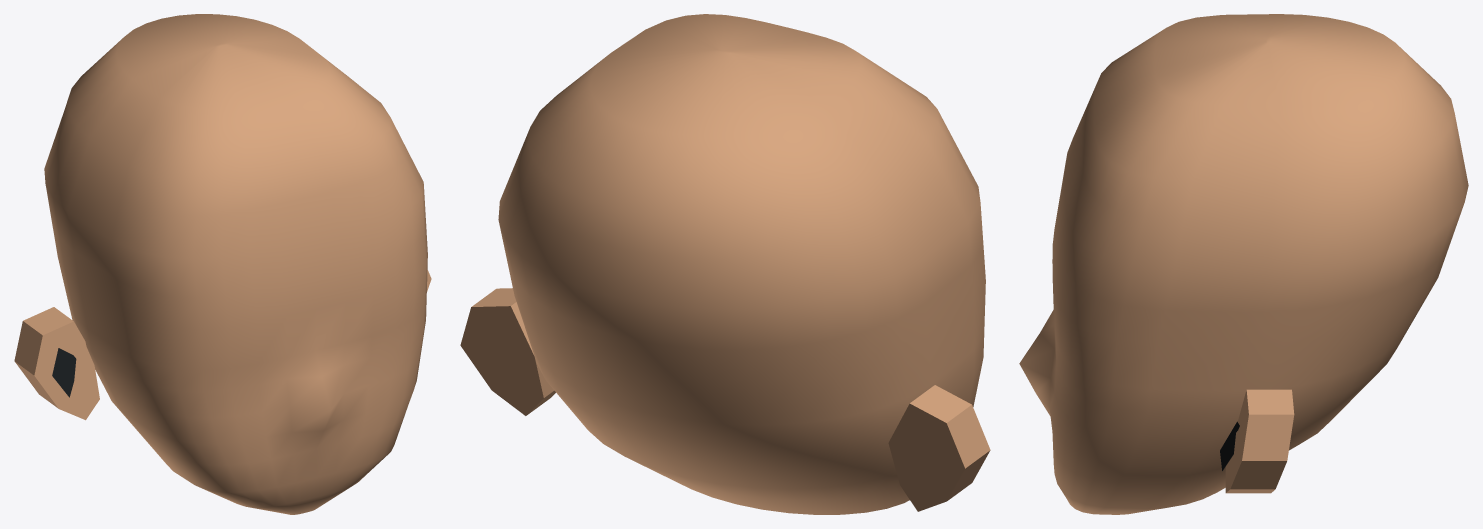
Rendered from head-scout.glb.
3 renders of one model, left to right at view 1: azimuth 30°, elevation 25°; view 2: azimuth 150°, elevation 25°; view 3: azimuth 270°, elevation 25°, orthographic. The views are drawn at different scales.
Parts seen in each view (by area): view 1: head-scout_ref2_head-scout__head_mesh; view 2: head-scout_ref2_head-scout__head_mesh; view 3: head-scout_ref2_head-scout__head_mesh.
Part boxes in pixels (x1,y1,x2,y2): head-scout_ref2_head-scout__head_mesh: (14, 14, 431, 514); head-scout_ref2_head-scout__head_mesh: (460, 14, 990, 514); head-scout_ref2_head-scout__head_mesh: (1019, 14, 1468, 514).
Size of the model in its own units: 0.448 by 0.438 by 0.3865.
